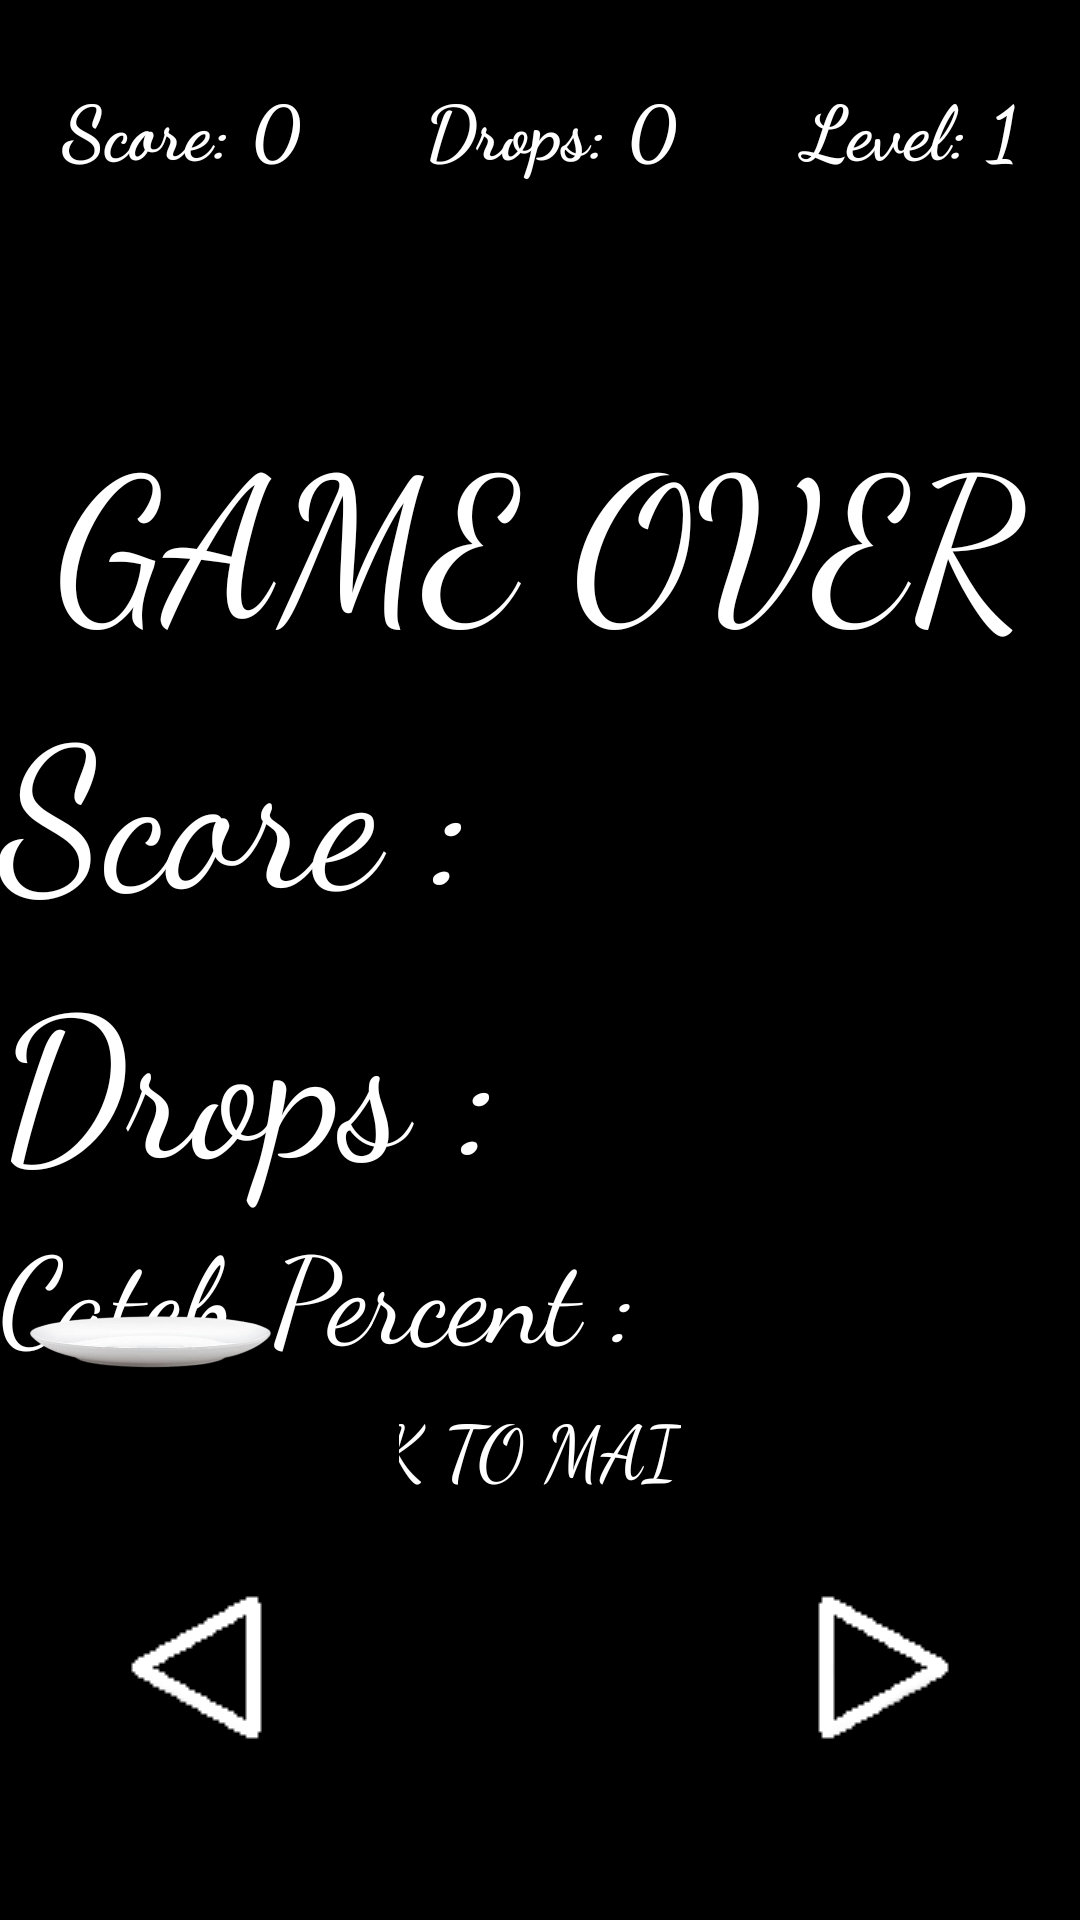

Point at icon controls on the screen. Image size 1080×1920, points as [x,y].
leftbut: [196,1667]
rightbut: [883,1667]
